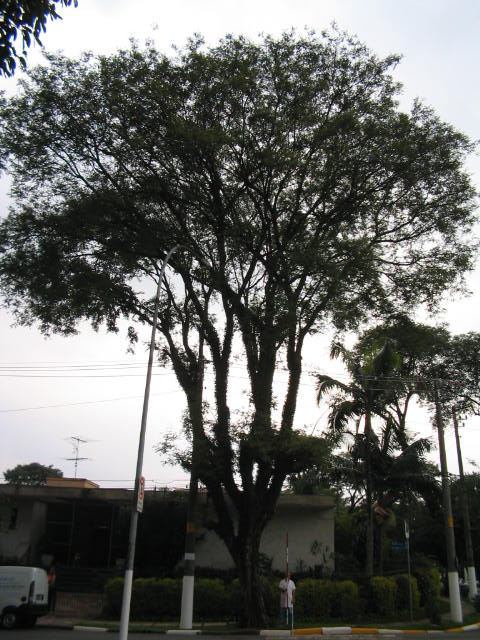crown: (5, 22, 475, 368)
stem: (220, 541, 277, 628)
stick: (278, 531, 299, 625)
tree: (3, 22, 478, 630)
